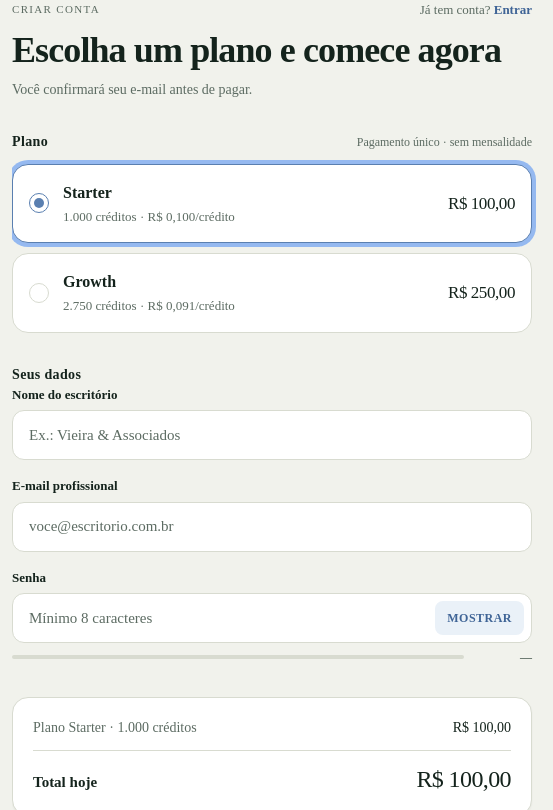
SignupForm › seleciona o primeiro pacote por padrão e atualiza o resumo ao trocar de plano
Expected: the text "Plano Starter · 1.000 créditos" is shown, left=33, top=718, right=197, bottom=738
Click the radio button labelled "Growth 2.750 créditos · R$ 0,091/crédito R$ 250,00" at (90, 282), box left=12, top=253, right=532, bottom=332
(page scrolled)
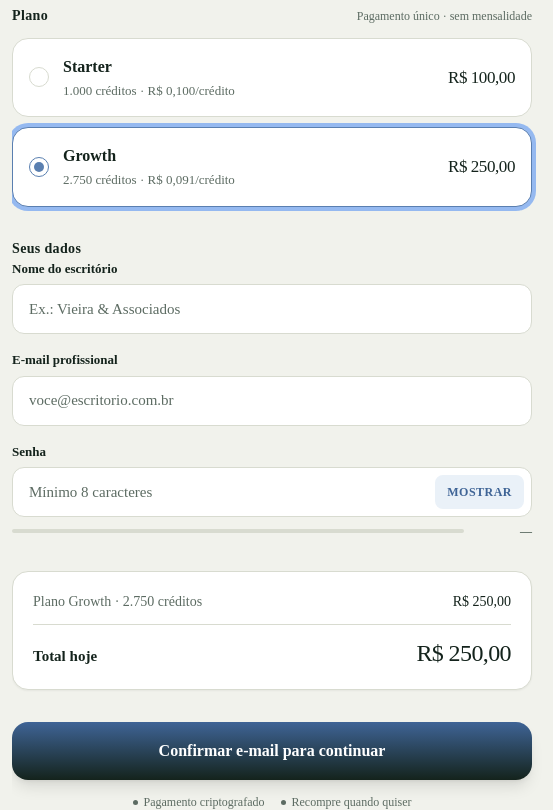
Expected: the button "Confirmar e-mail para continuar" is shown, left=12, top=722, right=532, bottom=780
Result: the text "Plano Growth · 2.750 créditos" is shown at left=33, top=592, right=202, bottom=612
